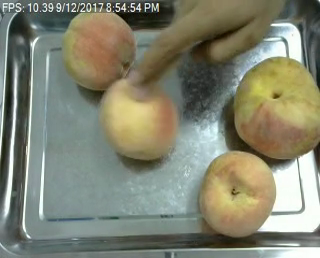Peach: (232, 56, 320, 157), (198, 149, 277, 238), (99, 79, 178, 160), (63, 7, 135, 92)
